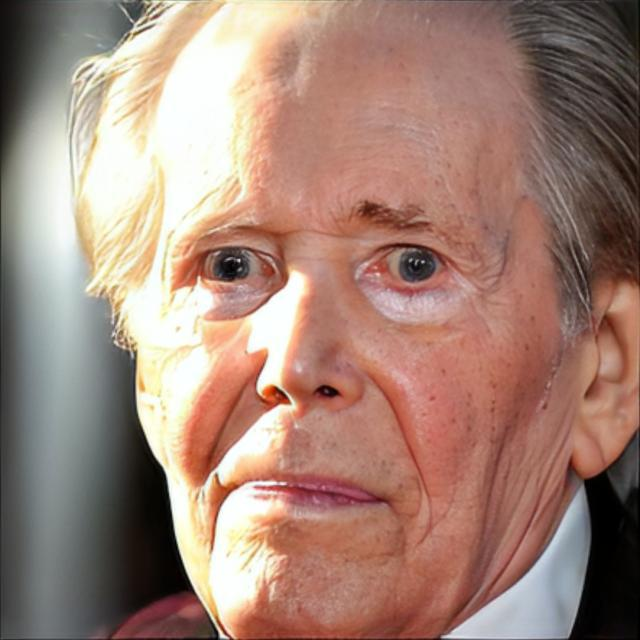fear: (152, 2, 568, 640)
